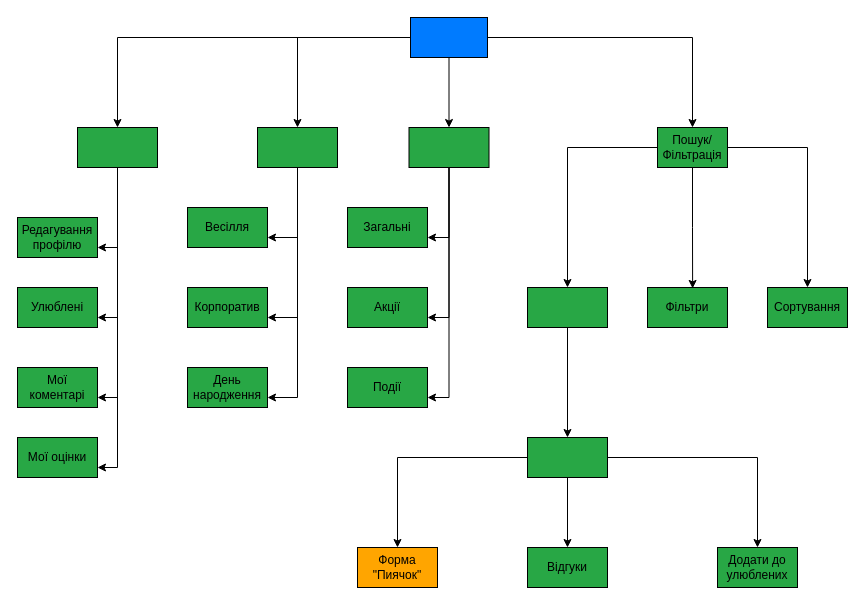
Some shapes in this 865 by 605 pixel diagram are drawn without their labels. The shapes that lost their labels are listed below. From the top down, each one's centre as x and y in pixels, then its label:
At [449,37]: "Головна".
At [117,147]: "Особистий кабінет".
At [297,147]: "Топ-категорії".
At [448,147]: "Новини".
At [567,307]: "Список закладів".
At [567,457]: "Сторінка закладу".
